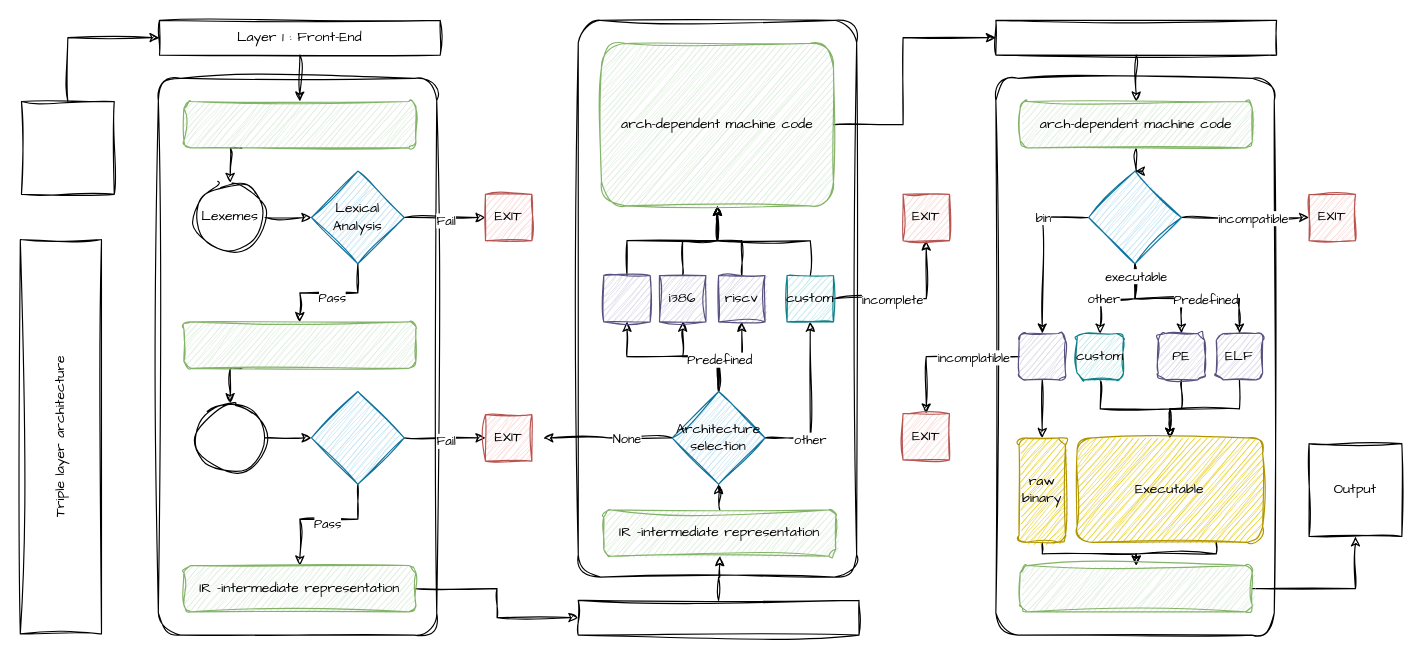
Some shapes in this 1422 by 655 pixel diagram are drawn without their labels. Here are the shapes that lost their labels. From the top down, the centre of each, then its label:
[1136,37]: Layer 3 : OS compliance
[299,124]: Lexer
[67,147]: input
[1134,217]: format selection
[626,298]: arm
[299,344]: Parser
[1041,356]: raw
[229,437]: AST
[357,437]: Syntactical Analysis
[1135,588]: final oputput
[718,617]: Layer 2 : architecture
